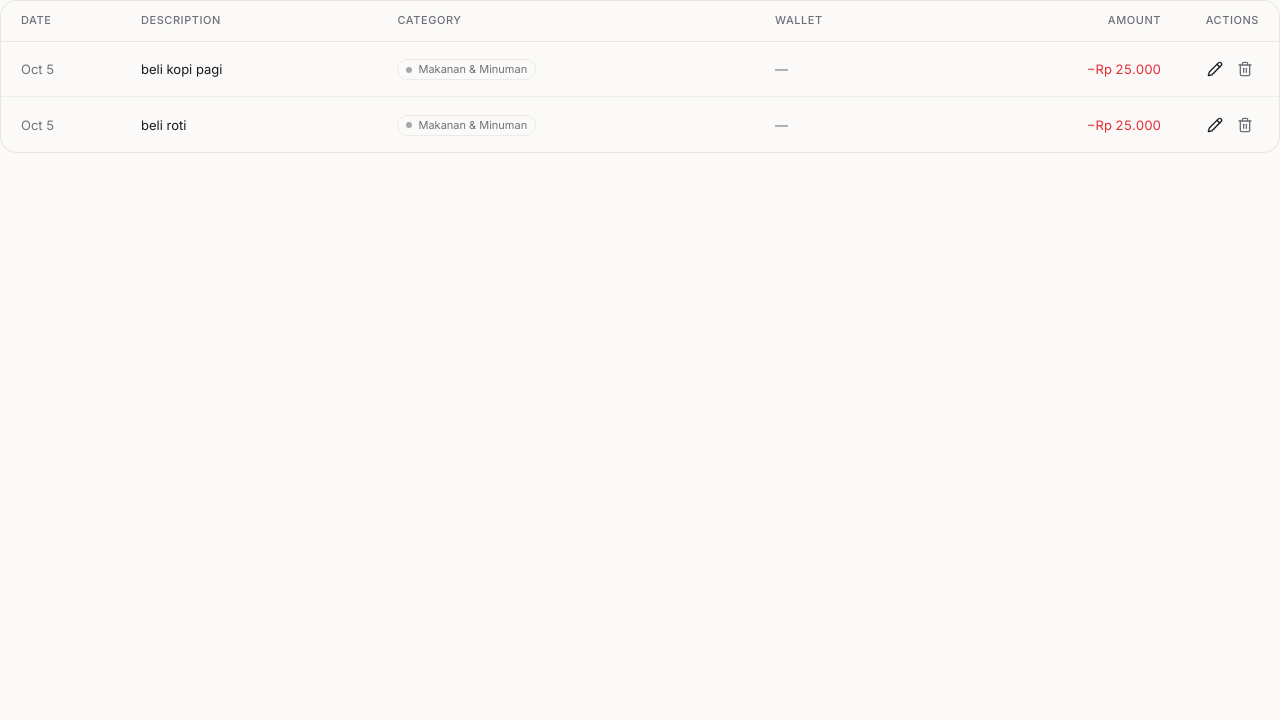
it: U-2: Undo -> restore POST for that id -> success toast + refetch › full client chain
This screenshot has width=1280, height=720.
Click the button named "Delete transaction" in the row of "beli kopi pagi".
click(1245, 69)  # box [1231, 55, 1259, 83]
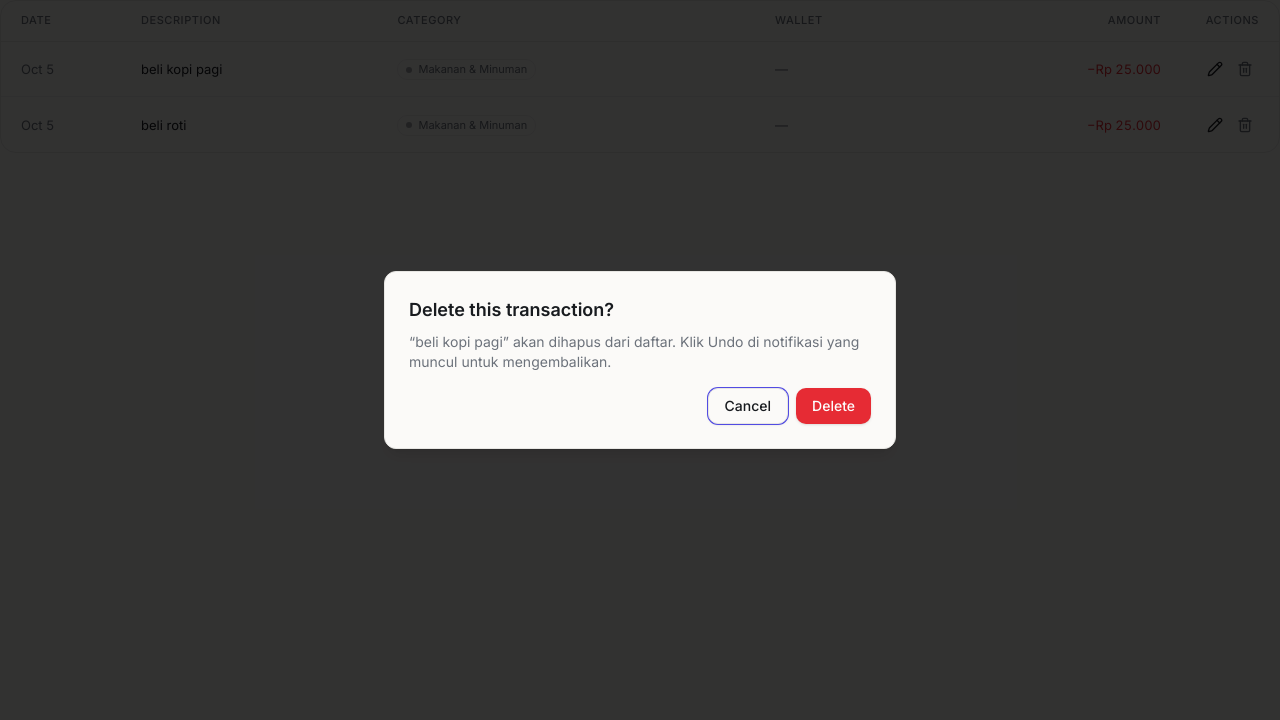
Click the button "Delete".
click(834, 406)  # box [796, 388, 871, 424]
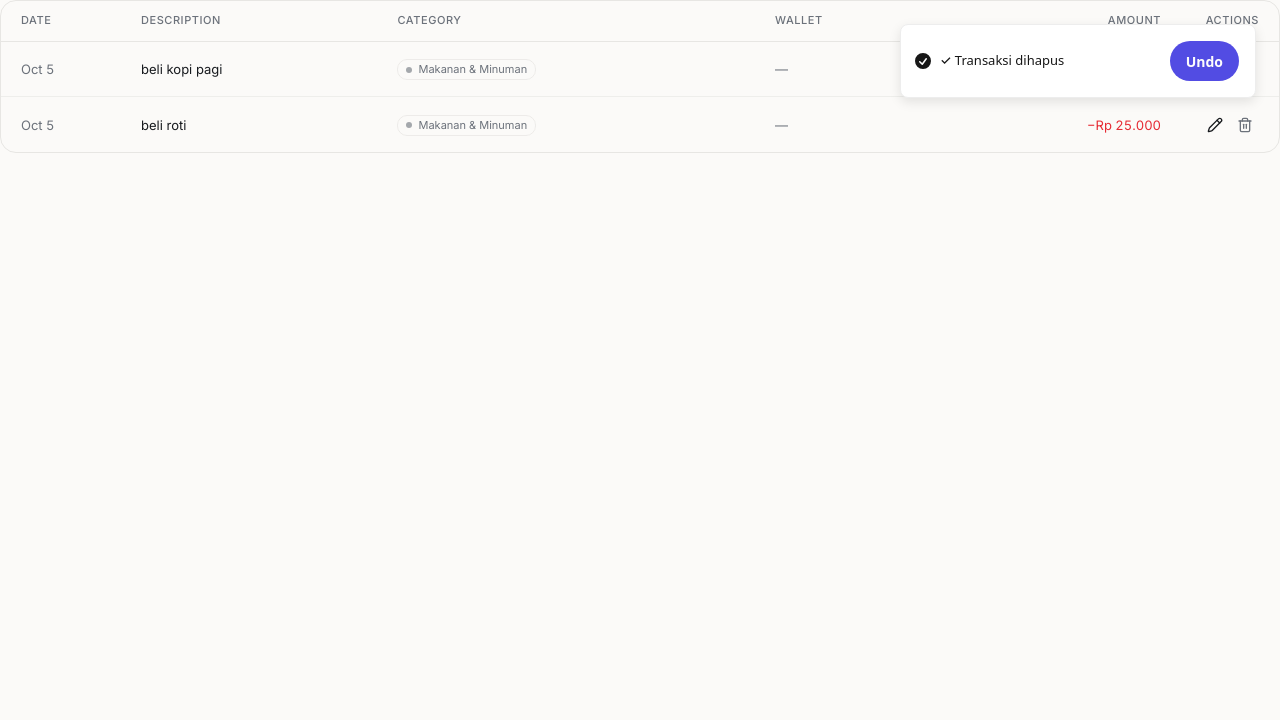
Expected: the text "✓ Transaksi dihapus" is shown, [940, 51, 1064, 71]
Click the button "Undo".
click(1204, 61)  # box [1170, 41, 1239, 81]
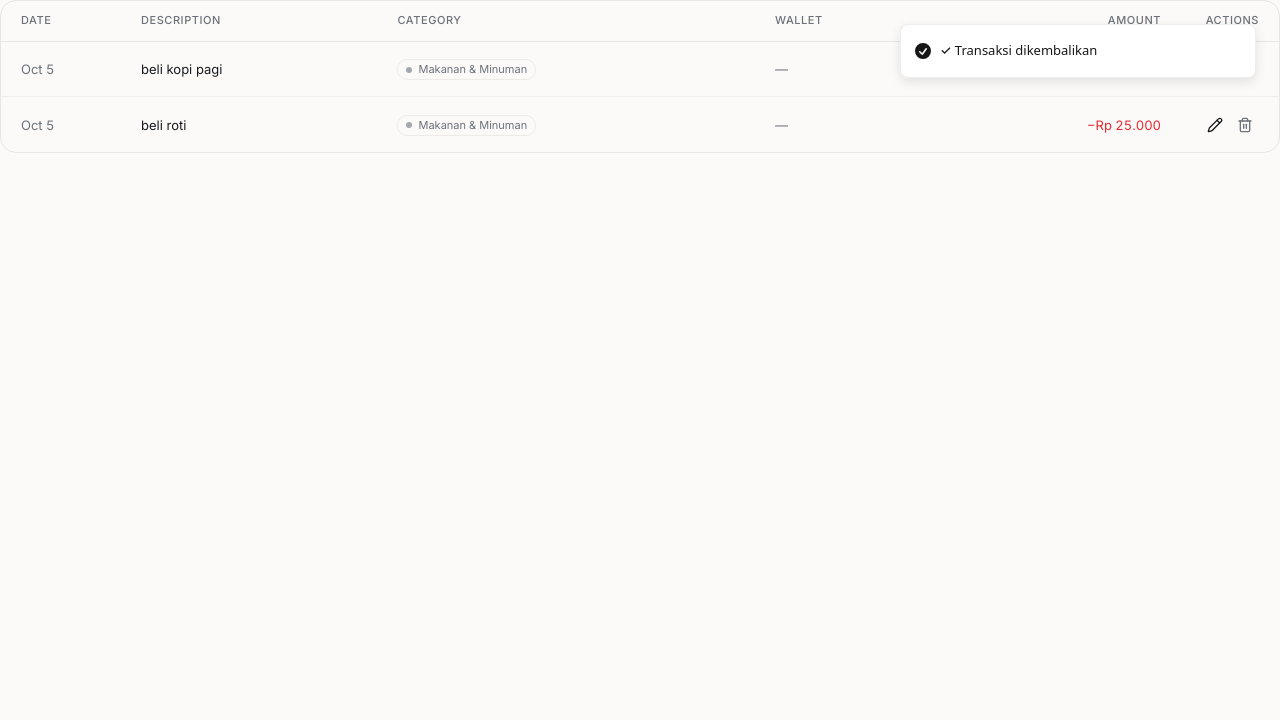
Expected: the text "✓ Transaksi dikembalikan" is shown, [940, 41, 1097, 60]
Expected: the text "✓ Transaksi dihapus" is gone
